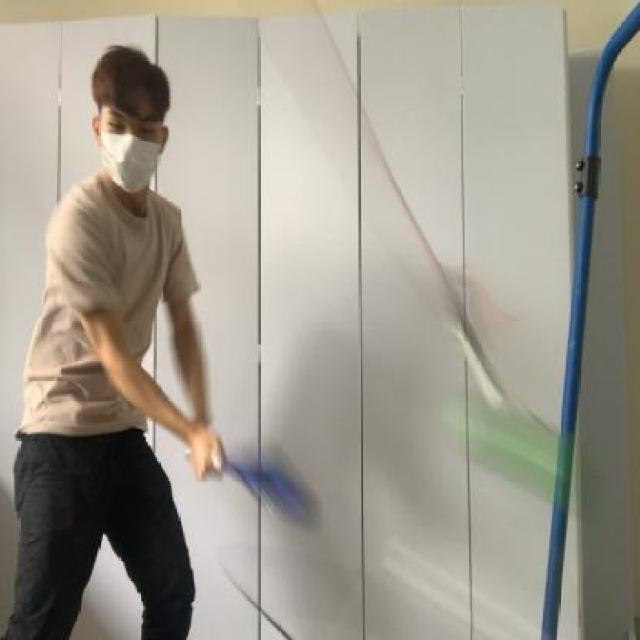baseball: (444, 388, 598, 506)
